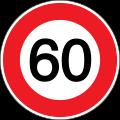Speed Limit -60-: (23, 31, 95, 90)
